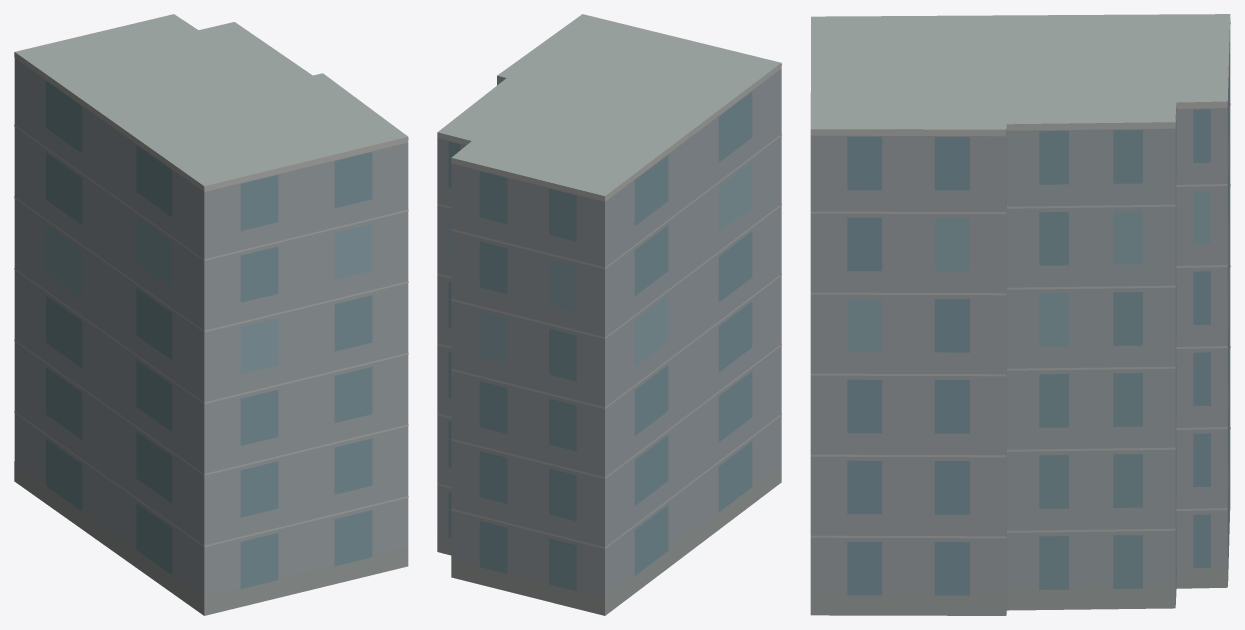
File: survey-upis-32829561.glb
3 renders of one model, left to right at view 1: azimuth 30°, elevation 25°; view 2: azimuth 150°, elevation 25°; view 3: azimuth 270°, elevation 25°, orthographic. The views are drawn at different scales.
Visible parts, largest first — view 1: survey-upis-32829561.tmp; view 2: survey-upis-32829561.tmp; view 3: survey-upis-32829561.tmp.
Part boxes in pixels (<box>): survey-upis-32829561.tmp: <box>14,14,408,615</box>; survey-upis-32829561.tmp: <box>437,14,781,615</box>; survey-upis-32829561.tmp: <box>810,14,1230,615</box>.
Bounding box in the file's own units: 9.31 × 18.2 × 14.26.
